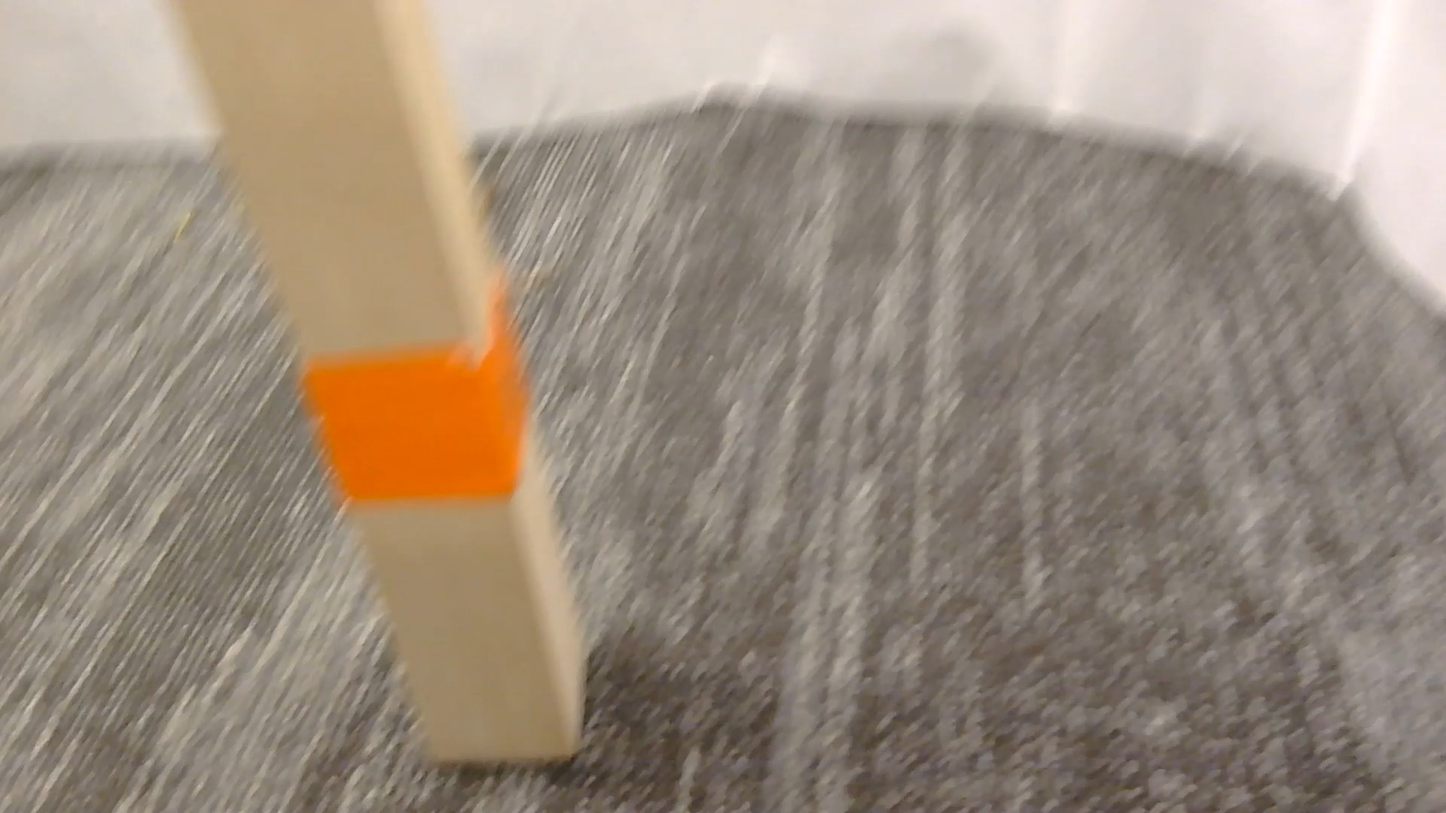Wooden Block: (170, 0, 584, 761)
